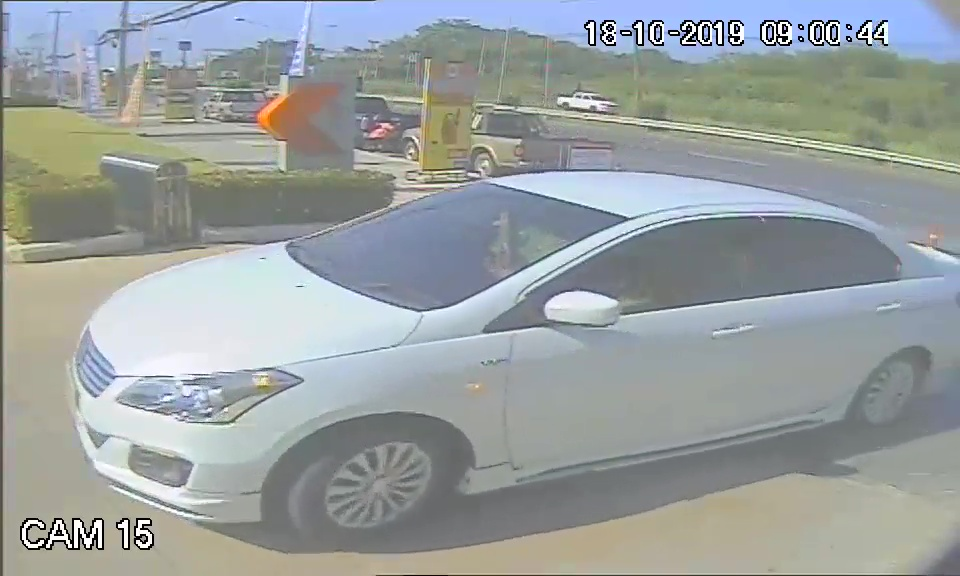sedan: (63, 168, 939, 527)
